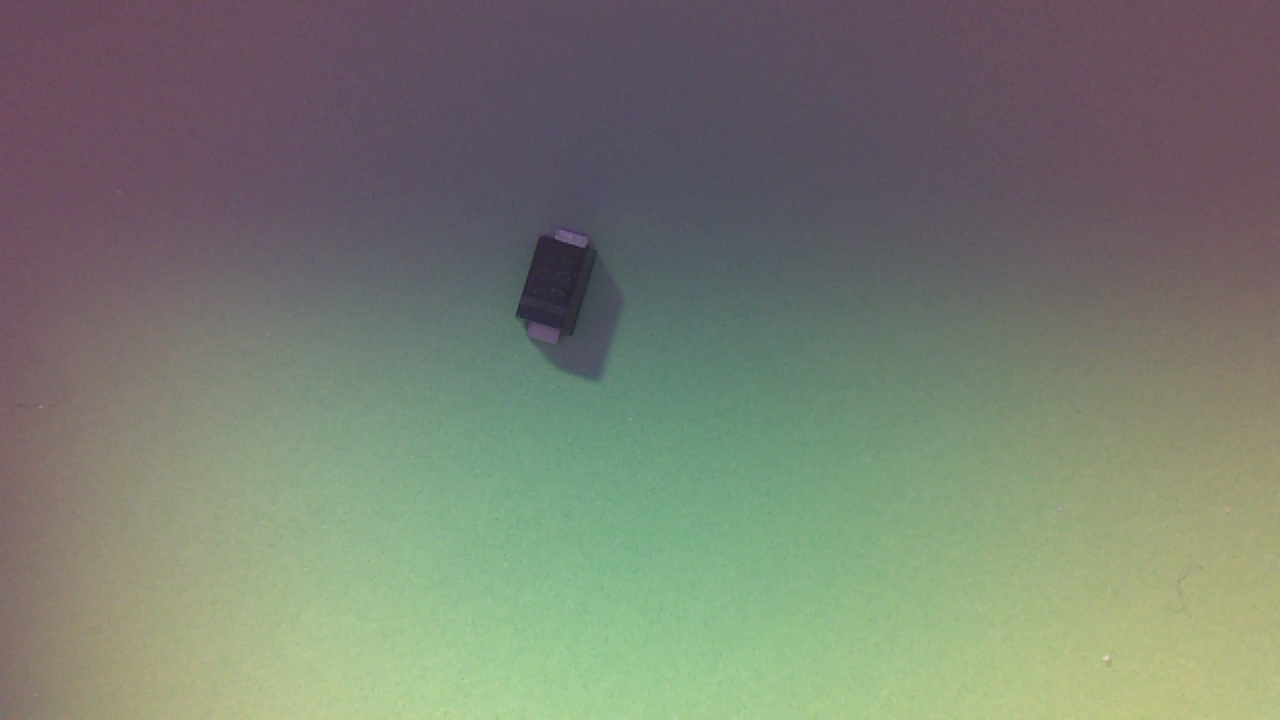Diode: (515, 232, 608, 356)
